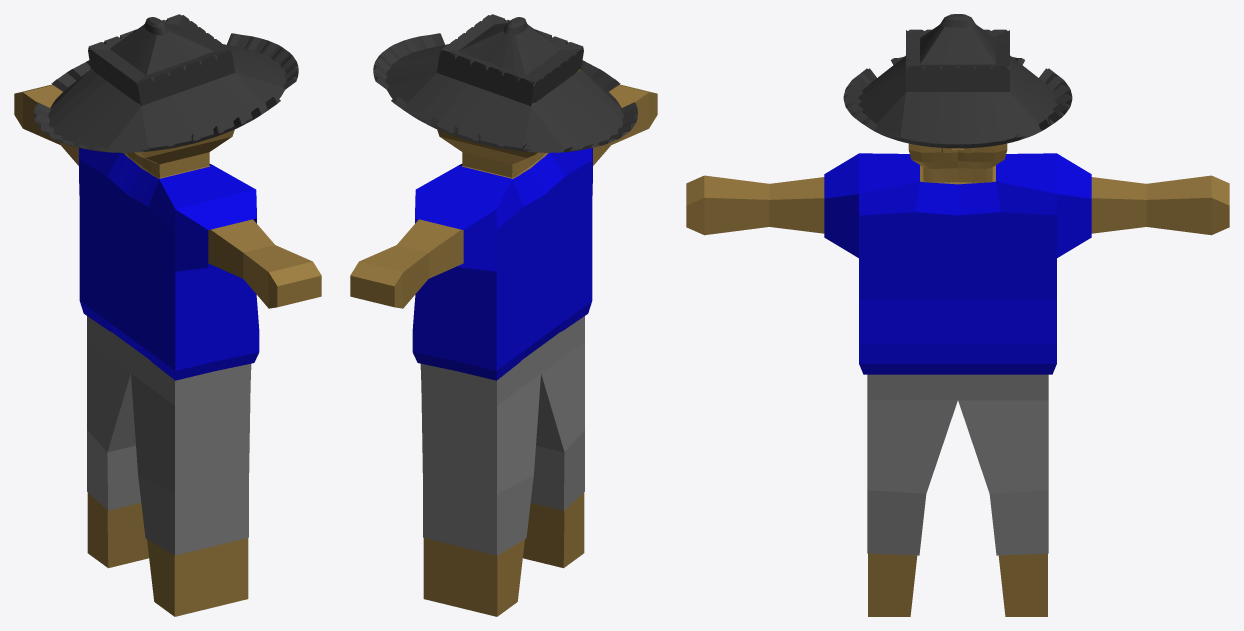
3 views of the same model, side by side, from view 1: azimuth 30°, elevation 25°; view 2: azimuth 150°, elevation 25°; view 3: azimuth 270°, elevation 25° (orthographic). The views are drawn at different scales.
Visible parts, largest first — view 1: Cube.008, Cube.003, Cube.009, Cube.002; view 2: Cube.008, Cube.003, Cube.009, Cube.002; view 3: Cube.008, Cube.003, Cube.002, Cube.009.
Boxes of the visible parts, left/top/right/bottom form: Cube.008: left=79, top=148, right=259, bottom=380; Cube.003: left=87, top=316, right=251, bottom=555; Cube.009: left=34, top=14, right=298, bottom=152; Cube.002: left=14, top=69, right=321, bottom=616; Cube.008: left=412, top=148, right=592, bottom=380; Cube.003: left=420, top=316, right=584, bottom=555; Cube.009: left=373, top=14, right=637, bottom=152; Cube.002: left=350, top=69, right=657, bottom=616; Cube.008: left=824, top=153, right=1091, bottom=374; Cube.003: left=867, top=374, right=1048, bottom=555; Cube.002: left=686, top=143, right=1229, bottom=616; Cube.009: left=843, top=14, right=1072, bottom=148.
Bounding box in the file's own units: 0.7836 × 1.75 × 1.49.
